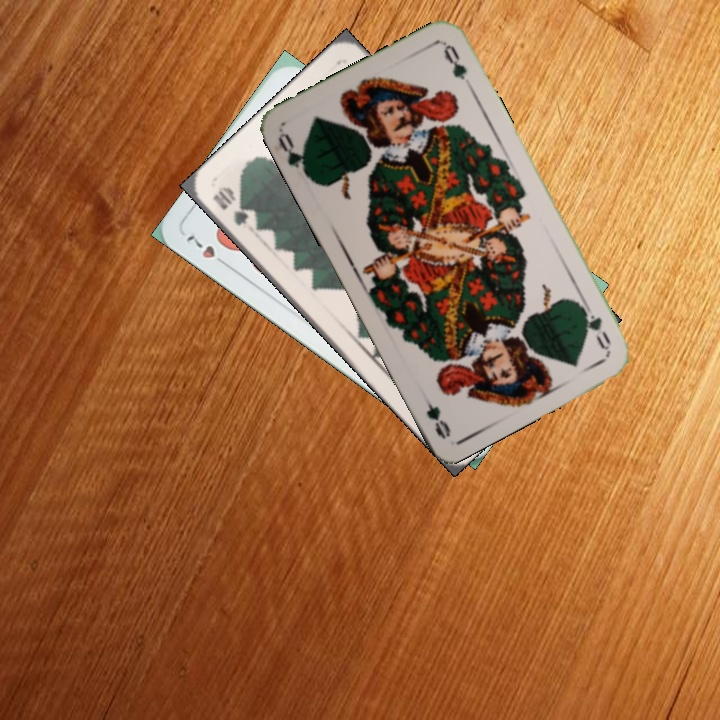G10: (208, 182, 251, 229)
GO: (575, 297, 614, 353), (273, 129, 314, 182)
H7: (182, 230, 232, 268)
